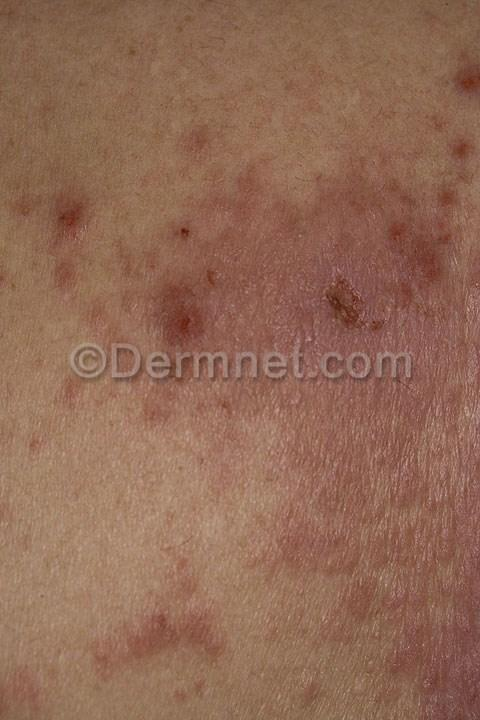Eczema: (112, 275, 297, 401), (4, 154, 126, 265), (344, 237, 444, 342)
